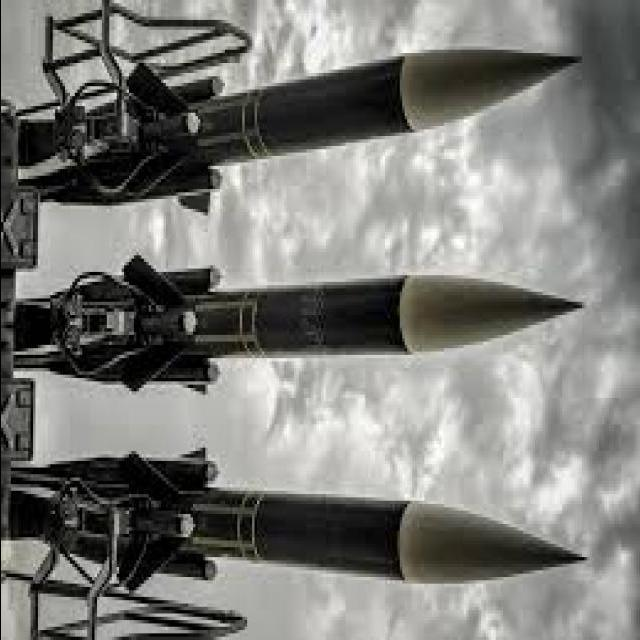missile: (16, 457, 592, 599), (60, 32, 588, 184), (61, 260, 589, 400)
